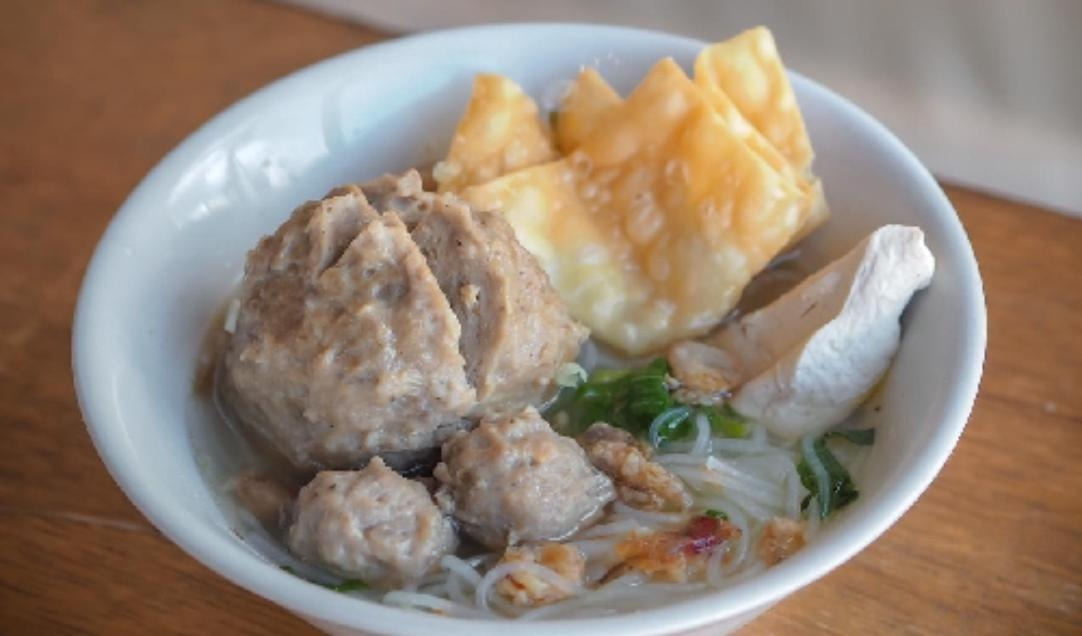bakso_malang: (205, 24, 935, 619)
